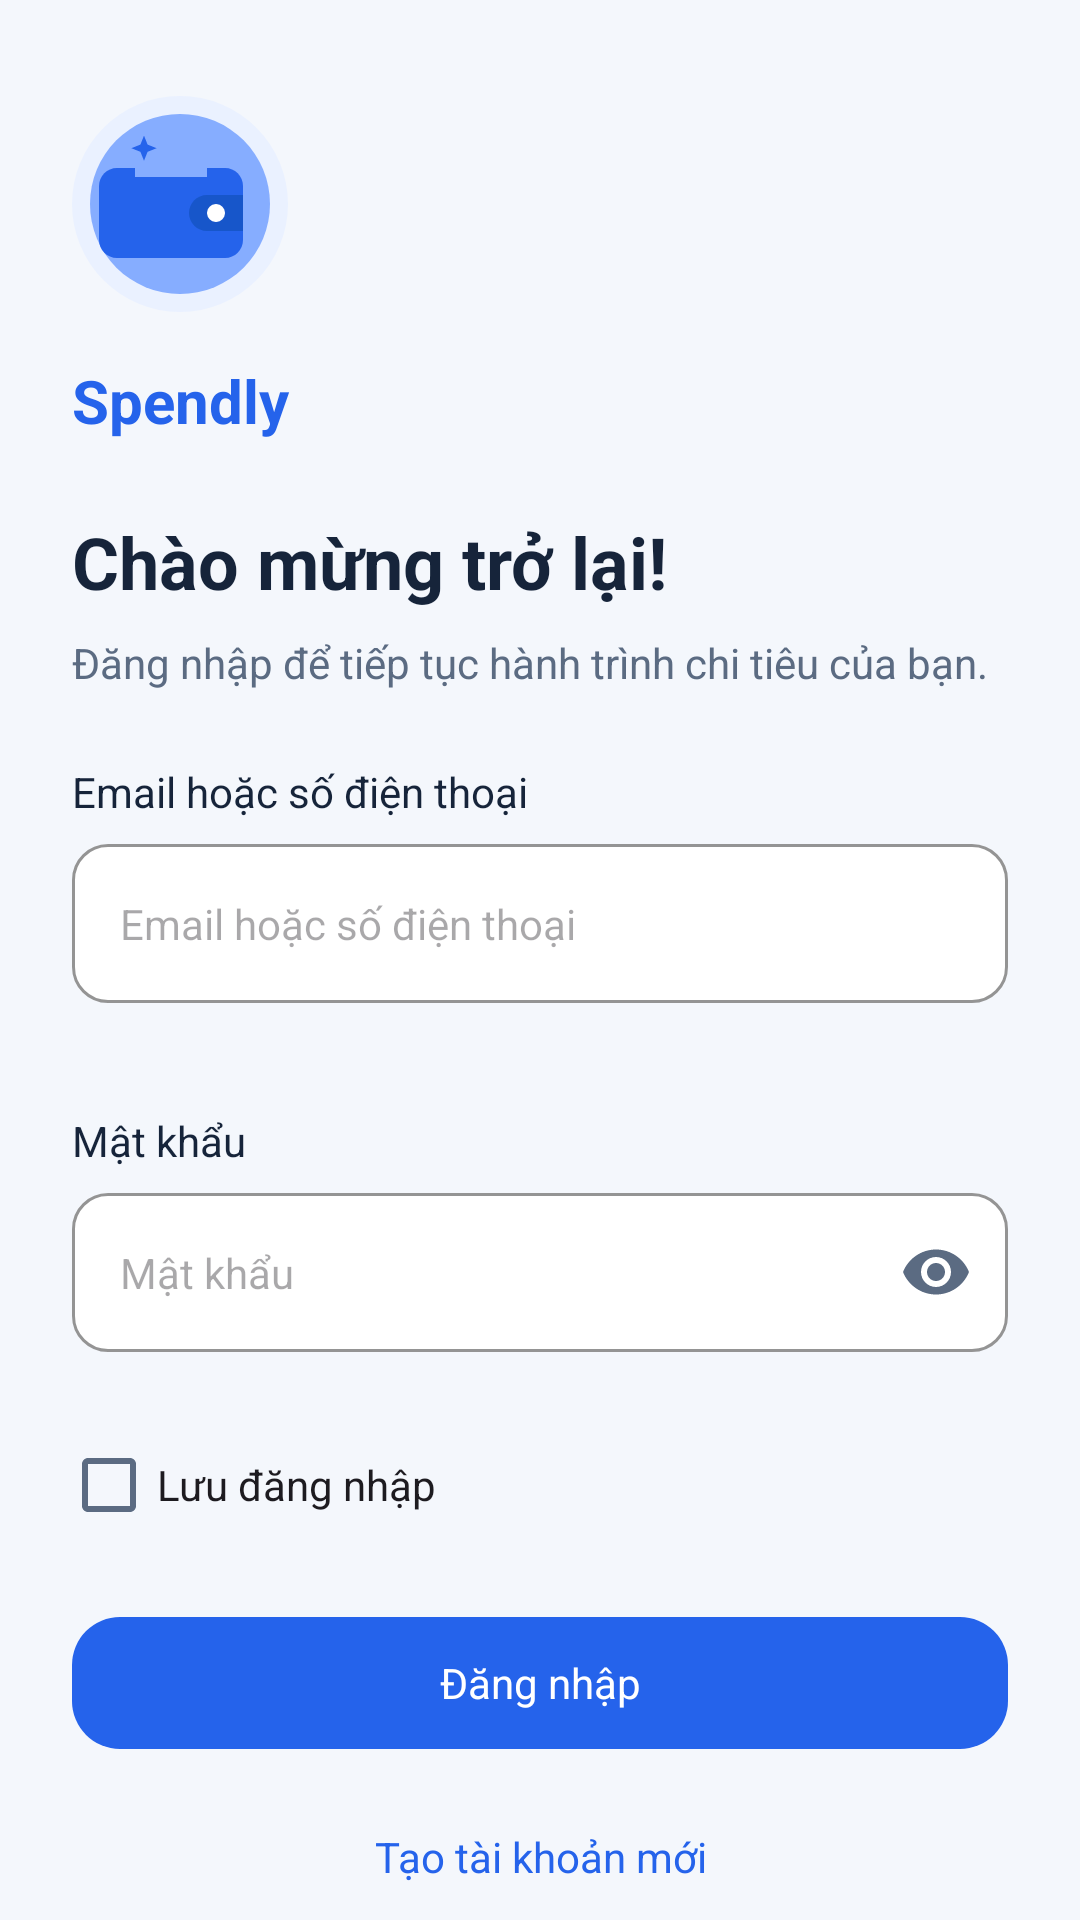

Icon click points for this 1080px×1920px phone screenshot, format (x=x, y=y):
wallet illustration: (x=180, y=204)
